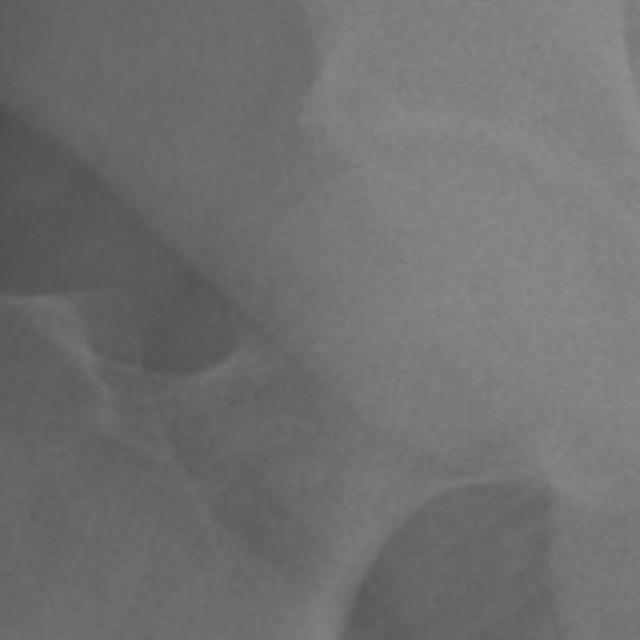Fitted_femural_head: (365, 154, 432, 365)
